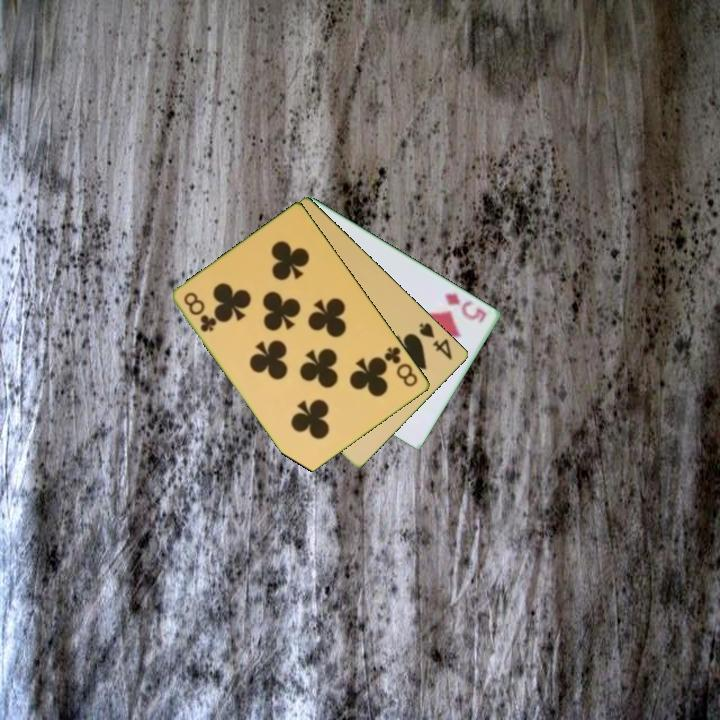4s: (416, 319, 456, 363)
5d: (441, 289, 490, 327)
8c: (381, 343, 421, 390), (180, 288, 220, 335)
